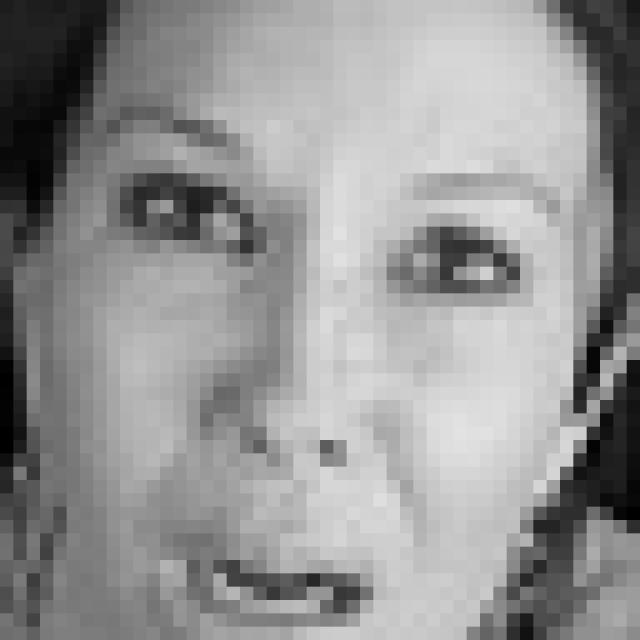fear: (99, 101, 569, 640)
